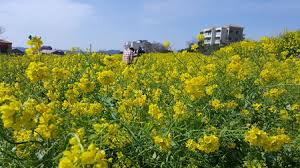flower: (6, 53, 295, 168)
